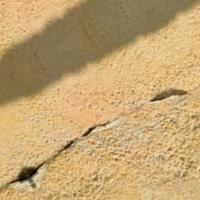crack: (0, 86, 192, 194)
